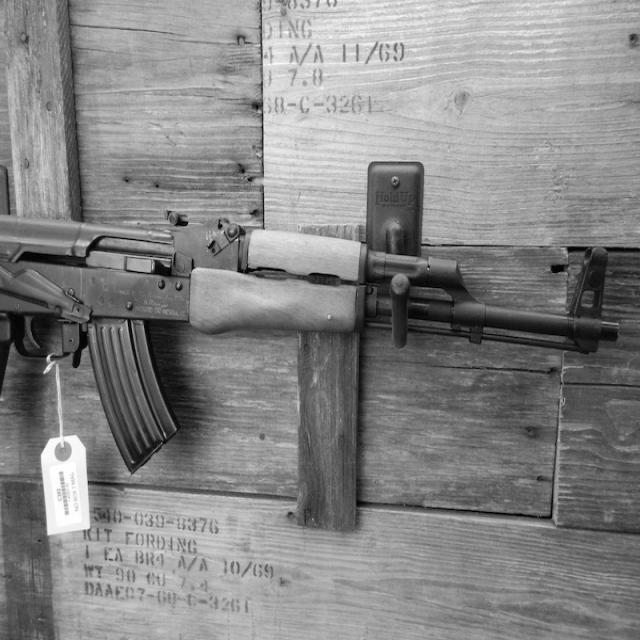gun: (1, 211, 617, 470)
